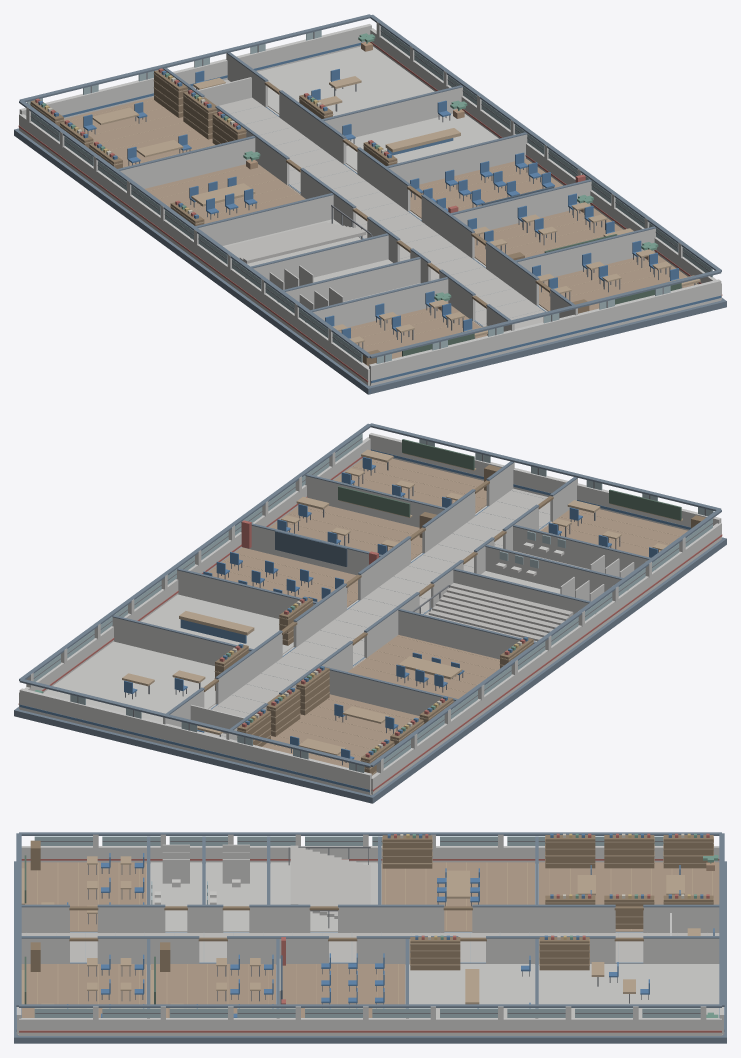
The model's file is pavimento_1_CONCEITUAL.glb.
3 views of the same model, one above another, from view 1: azimuth 30°, elevation 25°; view 2: azimuth 150°, elevation 25°; view 3: azimuth 270°, elevation 25° (orthographic).
Visible parts, largest first — view 1: world; view 2: world; view 3: world.
Part boxes in pixels (box(x1,y1,x2,y2)): world: box(14, 14, 726, 394); world: box(14, 423, 726, 803); world: box(14, 832, 726, 1043).
Bounding box in the file's own units: 22.55 × 2.38 × 38.55.
